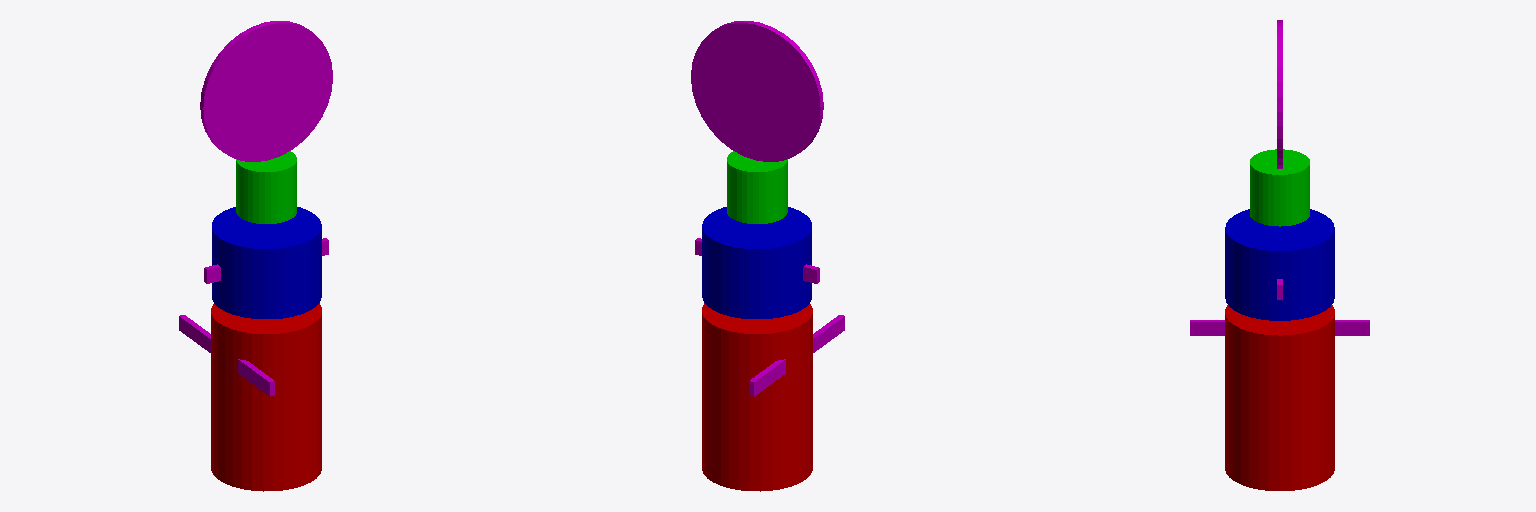
The robot description file, URDF, robot "naro":
<robot name="naro">

    <material name="blue">
        <color rgba="0 0 0.8 1"/>
    </material>
    <material name="red">
        <color rgba="0.8 0 0 1"/>
    </material>
    <material name="green">
        <color rgba="0 0.8 0 1"/>
    </material>
    <material name="purple">
        <color rgba="0.8 0 0.8 1"/>
    </material>

    <gazebo>
        <plugin name="gazebo_ros_control" filename="libgazebo_ros_control.so">
        </plugin>
    </gazebo>

	<!-- * * * Link Definitions * * * -->
    <link name="base_link">
 	    <inertial>
            <origin xyz="0 0 0" rpy="0 0 0"/>
            <mass value="0.2" />
            <inertia ixx="0.0005726" ixy="0.0" ixz="0.0" iyy="0.0005726" iyz="0.0" izz="0.0002704"/>
        </inertial>
        <collision>
            <origin rpy="0.0 0 0" xyz="0 0 0"/>
            <geometry>
                <cylinder radius="0.052" length="0.162"/>
            </geometry>
        </collision>
        <visual>
            <origin rpy="0.0 0 0" xyz="0 0 0"/>
            <geometry>
                <cylinder radius="0.052" length="0.162"/>
            </geometry>
            <material name="red"/>
        </visual>
	</link>

    <gazebo reference="base_link">
        <kp>1000000.0</kp>
        <kd>1000000.0</kd>
        <mu1>10.0</mu1>
        <mu2>10.0</mu2>
        <material>Gazebo/Red</material>
    </gazebo>

    <link name="NaroBody_2_link">
 	    <inertial>
            <origin xyz="0 0 0.0362" rpy="0 0 0"/>
            <mass value="0.2" />
            <inertia ixx="0.000220439071667" ixy="0.0" ixz="0.0" iyy="0.000220439071667" iyz="0.0" izz="0.00026615281"/>
        </inertial>
        <collision>
            <origin xyz="0 0 0.0362" rpy="0 0 0"/>
            <geometry>
                <cylinder radius="0.05159" length="0.0724"/>
            </geometry>
        </collision>
        <visual>
            <origin xyz="0 0 0.0362" rpy="0 0 0"/>
            <geometry>
                <cylinder radius="0.05159" length="0.0724"/>
            </geometry>
            <material name="blue"/>
        </visual>
	</link>
    <!-- This is for color and physical properties in Gazebo, color won't work with the material tag in gazebo
    only for URDF coloring -->
    <gazebo reference="NaroBody_2_link">
        <kp>1000000.0</kp>
        <kd>1000000.0</kd>
        <mu1>10.0</mu1>
        <mu2>10.0</mu2>
        <material>Gazebo/Blue</material>
    </gazebo>

    <joint name="NaroBody_1_NaroBody_2_joint" type="revolute">
    	<parent link="base_link"/>
    	<child link="NaroBody_2_link"/>
        <origin xyz="0 0 0.096" rpy="0 0 0"/>
        <limit lower="-0.2" upper="0.2" effort="10.0" velocity="1.0"/>
        <axis xyz="1 0 0"/>
	</joint>
	
    <transmission name="tran1">
        <type>transmission_interface/SimpleTransmission</type>
        <joint name="NaroBody_1_NaroBody_2_joint">
            <hardwareInterface>EffortJointInterface</hardwareInterface>
        </joint>
        <actuator name="motor1">
            <hardwareInterface>EffortJointInterface</hardwareInterface>
            <mechanicalReduction>1</mechanicalReduction>
        </actuator>
    </transmission>

    <link name="NaroBody_3_link">
 	    <inertial>
            <origin xyz="0 0 0.0267885" rpy="0 0 0"/>
            <mass value="0.2" />
            <inertia ixx="8.87413829167e-05" ixy="0.0" ixz="0.0" iyy="8.87413829167e-05" iyz="0.0" izz="8.18246025e-05"/>
        </inertial>
        <collision>
            <origin xyz="0 0 0.0267885" rpy="0 0 0"/>
            <geometry>
                <cylinder radius="0.028605" length="0.05357"/>
            </geometry>
        </collision>
        <visual>
            <origin xyz="0 0 0.0267885" rpy="0 0 0"/>
            <geometry>
                <cylinder radius="0.028605" length="0.05357"/>
            </geometry>
            <material name="green"/>
        </visual>
	</link>
    <!-- This is for color and physical properties in Gazebo, color won't work with the material tag in gazebo
    only for URDF coloring -->
    <gazebo reference="NaroBody_3_link">
        <kp>1000000.0</kp>
        <kd>1000000.0</kd>
        <mu1>10.0</mu1>
        <mu2>10.0</mu2>
        <material>Gazebo/Green</material>
    </gazebo>

    <joint name="NaroBody_2_NaroBody_3_joint" type="revolute">
    	<parent link="NaroBody_2_link"/>
    	<child link="NaroBody_3_link"/>
        <origin xyz="0 0 0.0874" rpy="0 0 0"/>
        <limit lower="-0.2" upper="0.2" effort="5.0" velocity="1.0"/>
        <axis xyz="1 0 0"/>
	</joint>
	
    <transmission name="tran2">
        <type>transmission_interface/SimpleTransmission</type>
        <joint name="NaroBody_2_NaroBody_3_joint">
            <hardwareInterface>EffortJointInterface</hardwareInterface>
        </joint>
        <actuator name="motor2">
            <hardwareInterface>EffortJointInterface</hardwareInterface>
            <mechanicalReduction>1</mechanicalReduction>
        </actuator>
    </transmission>
    
    
    <link name="Naro_caudal_fin_link">
 	    <inertial>
            <origin xyz="0 0.07 0" rpy="0 0 0"/>
            <mass value="0.2" />
            <inertia ixx="0.000220439071667" ixy="0.0" ixz="0.0" iyy="0.000220439071667" iyz="0.0" izz="0.00026615281"/>
        </inertial>
        <collision>
            <origin xyz="0 0.07 0" rpy="0 0 0"/>
            <geometry>
                <cylinder radius="0.07" length="0.006"/>
            </geometry>
        </collision>
        <visual>
            <origin xyz="0 0.07 0" rpy="0 0 0"/>
            <geometry>
                <cylinder radius="0.07" length="0.006"/>
            </geometry>
            <material name="purple"/>
        </visual>
	</link>
    <!-- This is for color and physical properties in Gazebo, color won't work with the material tag in gazebo
    only for URDF coloring -->
    <gazebo reference="Naro_caudal_fin_link">
        <kp>1000000.0</kp>
        <kd>1000000.0</kd>
        <mu1>10.0</mu1>
        <mu2>10.0</mu2>
        <material>Gazebo/Purple</material>
    </gazebo>

    <joint name="NaroBody_3_Naro_caudal_fin_joint" type="revolute">
    	<parent link="NaroBody_3_link"/>
    	<child link="Naro_caudal_fin_link"/>
        <origin xyz="0 0 0.05357" rpy="1.5707963267948966 0 0"/>
        <limit lower="-0.2" upper="0.2" effort="5.0" velocity="1.0"/>
        <axis xyz="1 0 0"/>
	</joint>
	
    <transmission name="tran3">
        <type>transmission_interface/SimpleTransmission</type>
        <joint name="NaroBody_3_Naro_caudal_fin_joint">
            <hardwareInterface>EffortJointInterface</hardwareInterface>
        </joint>
        <actuator name="motor3">
            <hardwareInterface>EffortJointInterface</hardwareInterface>
            <mechanicalReduction>1</mechanicalReduction>
        </actuator>
    </transmission>
    
    
    <link name="Naro_pectoral_fin_right_link">
 	    <inertial>
            <origin xyz="0 0 0" rpy="0 0 0"/>
            <mass value="0.1" />
            <inertia ixx="3.15811533333e-05" ixy="0.0" ixz="0.0" iyy="3.00804033333e-05" iyz="0.0" izz="2.10075e-06"/>
        </inertial>
        <collision>
            <origin xyz="0 0 0" rpy="0 0 0"/>
            <geometry>
                <box size="0.006 0.0147 0.05978" />
            </geometry>
        </collision>
        <visual>
            <origin xyz="0 0 0" rpy="0 0 0"/>
            <geometry>
                <box size="0.006 0.0147 0.05978" />
            </geometry>
            <material name="purple"/>
        </visual>
	</link>
    <!-- This is for color and physical properties in Gazebo, color won't work with the material tag in gazebo
    only for URDF coloring -->
    <gazebo reference="Naro_pectoral_fin_right_link">
        <kp>1000000.0</kp>
        <kd>1000000.0</kd>
        <mu1>10.0</mu1>
        <mu2>10.0</mu2>
        <material>Gazebo/Purple</material>
    </gazebo>

    <joint name="NaroBody_1_Naro_pectoral_fin_right_joint" type="revolute">
    	<parent link="base_link"/>
    	<child link="Naro_pectoral_fin_right_link"/>
        <origin xyz="-0.04275 -0.05489 0.04478" rpy="1.5707963267948966 0 0"/>
        <limit lower="-0.2" upper="0.2" effort="0.1" velocity="0.5"/>
        <axis xyz="0 0 1"/>
	</joint>
	
    <transmission name="tran4">
        <type>transmission_interface/SimpleTransmission</type>
        <joint name="NaroBody_1_Naro_pectoral_fin_right_joint">
            <hardwareInterface>EffortJointInterface</hardwareInterface>
        </joint>
        <actuator name="motor4">
            <hardwareInterface>EffortJointInterface</hardwareInterface>
            <mechanicalReduction>1</mechanicalReduction>
        </actuator>
    </transmission>
    
    
    <link name="Naro_pectoral_fin_left_link">
 	    <inertial>
            <origin xyz="0 0 0" rpy="0 0 0"/>
            <mass value="0.05" />
            <inertia ixx="3.15811533333e-05" ixy="0.0" ixz="0.0" iyy="3.00804033333e-05" iyz="0.0" izz="2.10075e-06"/>
        </inertial>
        <collision>
            <origin xyz="0 0 0" rpy="0 0 0"/>
            <geometry>
                <box size="0.006 0.0147 0.05978" />
            </geometry>
        </collision>
        <visual>
            <origin xyz="0 0 0" rpy="0 0 0"/>
            <geometry>
                <box size="0.006 0.0147 0.05978" />
            </geometry>
            <material name="purple"/>
        </visual>
	</link>
    <!-- This is for color and physical properties in Gazebo, color won't work with the material tag in gazebo
    only for URDF coloring -->
    <gazebo reference="Naro_pectoral_fin_left_link">
        <kp>1000000.0</kp>
        <kd>1000000.0</kd>
        <mu1>10.0</mu1>
        <mu2>10.0</mu2>
        <material>Gazebo/Purple</material>
    </gazebo>

    <joint name="NaroBody_1_Naro_pectoral_fin_left_joint" type="revolute">
    	<parent link="base_link"/>
    	<child link="Naro_pectoral_fin_left_link"/>
        <origin xyz="-0.04275 0.05489 0.04478" rpy="1.5707963267948966 0 0"/>
        <limit lower="-0.2" upper="0.2" effort="0.1" velocity="0.5"/>
        <axis xyz="0 0 1"/>
	</joint>
	
    <transmission name="tran5">
        <type>transmission_interface/SimpleTransmission</type>
        <joint name="NaroBody_1_Naro_pectoral_fin_left_joint">
            <hardwareInterface>EffortJointInterface</hardwareInterface>
        </joint>
        <actuator name="motor5">
            <hardwareInterface>EffortJointInterface</hardwareInterface>
            <mechanicalReduction>1</mechanicalReduction>
        </actuator>
    </transmission>
    
    
    <link name="Naro_dorsal_fin_up_link">
 	    <inertial>
            <origin xyz="0 0 0" rpy="0 0 0"/>
            <mass value="0.05" />
            <inertia ixx="3.15811533333e-05" ixy="0.0" ixz="0.0" iyy="3.00804033333e-05" iyz="0.0" izz="2.10075e-06"/>
        </inertial>
        <collision>
            <origin xyz="0 0 0" rpy="0 0 0"/>
            <geometry>
                <box size="0.006 0.0147 0.05978" />
            </geometry>
        </collision>
        <visual>
            <origin xyz="0 0 0" rpy="0 0 0"/>
            <geometry>
                <box size="0.0147 0.006 0.05978" />
            </geometry>
            <material name="purple"/>
        </visual>
	</link>
	
	<gazebo reference="Naro_dorsal_fin_up_link">
        <kp>1000000.0</kp>
        <kd>1000000.0</kd>
        <mu1>10.0</mu1>
        <mu2>10.0</mu2>
        <material>Gazebo/Purple</material>
    </gazebo>
    
    <joint name="NaroBody_1_Naro_dorsal_fin_up_joint" type="fixed">
        <parent link="NaroBody_2_link"/>
        <child link="Naro_dorsal_fin_up_link"/>
        <origin xyz="0.035795 0 0.0362" rpy="0 1.5707963267948966 0"/>
    </joint>
    
    
        <link name="Naro_dorsal_fin_down_link">
 	    <inertial>
            <origin xyz="0 0 0" rpy="0 0 0"/>
            <mass value="0.05" />
            <inertia ixx="3.15811533333e-05" ixy="0.0" ixz="0.0" iyy="3.00804033333e-05" iyz="0.0" izz="2.10075e-06"/>
        </inertial>
        <collision>
            <origin xyz="0 0 0" rpy="0 0 0"/>
            <geometry>
                <box size="0.006 0.0147 0.05978" />
            </geometry>
        </collision>
        <visual>
            <origin xyz="0 0 0" rpy="0 0 0"/>
            <geometry>
                <box size="0.0147 0.006 0.05978" />
            </geometry>
            <material name="purple"/>
        </visual>
	</link>
	
	<gazebo reference="Naro_dorsal_fin_down_link">
        <kp>1000000.0</kp>
        <kd>1000000.0</kd>
        <mu1>10.0</mu1>
        <mu2>10.0</mu2>
        <material>Gazebo/Purple</material>
    </gazebo>
    
    <joint name="NaroBody_1_Naro_dorsal_fin_down_joint" type="fixed">
        <parent link="NaroBody_2_link"/>
        <child link="Naro_dorsal_fin_down_link"/>
        <origin xyz="-0.035795 0 0.0362" rpy="0 1.5707963267948966 0"/>
    </joint>


</robot>

--- Facts derived from the render (not from the file) ---
Views: 3 orthographic renders of the robot side by side, from view 1: azimuth 30°, elevation 25°; view 2: azimuth 150°, elevation 25°; view 3: azimuth 270°, elevation 25°.
Robot: naro — 8 links, 7 joints (5 revolute, 2 fixed); root link base_link; default pose: every joint at zero.
Visible links, largest first — view 1: base_link, Naro_caudal_fin_link, NaroBody_2_link, NaroBody_3_link, Naro_pectoral_fin_right_link, Naro_pectoral_fin_left_link; view 2: base_link, Naro_caudal_fin_link, NaroBody_2_link, NaroBody_3_link, Naro_pectoral_fin_left_link, Naro_pectoral_fin_right_link; view 3: base_link, NaroBody_2_link, NaroBody_3_link, Naro_caudal_fin_link, Naro_pectoral_fin_right_link, Naro_pectoral_fin_left_link.
Boxes of the visible links, x1,y1,x2,y2 form: base_link: [211, 303, 321, 491]; Naro_caudal_fin_link: [200, 21, 332, 161]; NaroBody_2_link: [212, 207, 321, 318]; NaroBody_3_link: [236, 151, 296, 223]; Naro_pectoral_fin_right_link: [238, 359, 274, 396]; Naro_pectoral_fin_left_link: [179, 315, 210, 352]; base_link: [702, 303, 812, 491]; Naro_caudal_fin_link: [691, 21, 823, 161]; NaroBody_2_link: [702, 207, 811, 318]; NaroBody_3_link: [727, 151, 787, 223]; Naro_pectoral_fin_left_link: [749, 359, 785, 396]; Naro_pectoral_fin_right_link: [813, 315, 844, 352]; base_link: [1225, 305, 1334, 490]; NaroBody_2_link: [1225, 209, 1334, 320]; NaroBody_3_link: [1250, 149, 1309, 226]; Naro_caudal_fin_link: [1277, 20, 1282, 168]; Naro_pectoral_fin_right_link: [1190, 320, 1224, 335]; Naro_pectoral_fin_left_link: [1335, 320, 1369, 335].
Size in the robot's own frame: 0.14 by 0.1696 by 0.458 metres.
Geometry: primitives only (box / cylinder / sphere), no mesh files.
